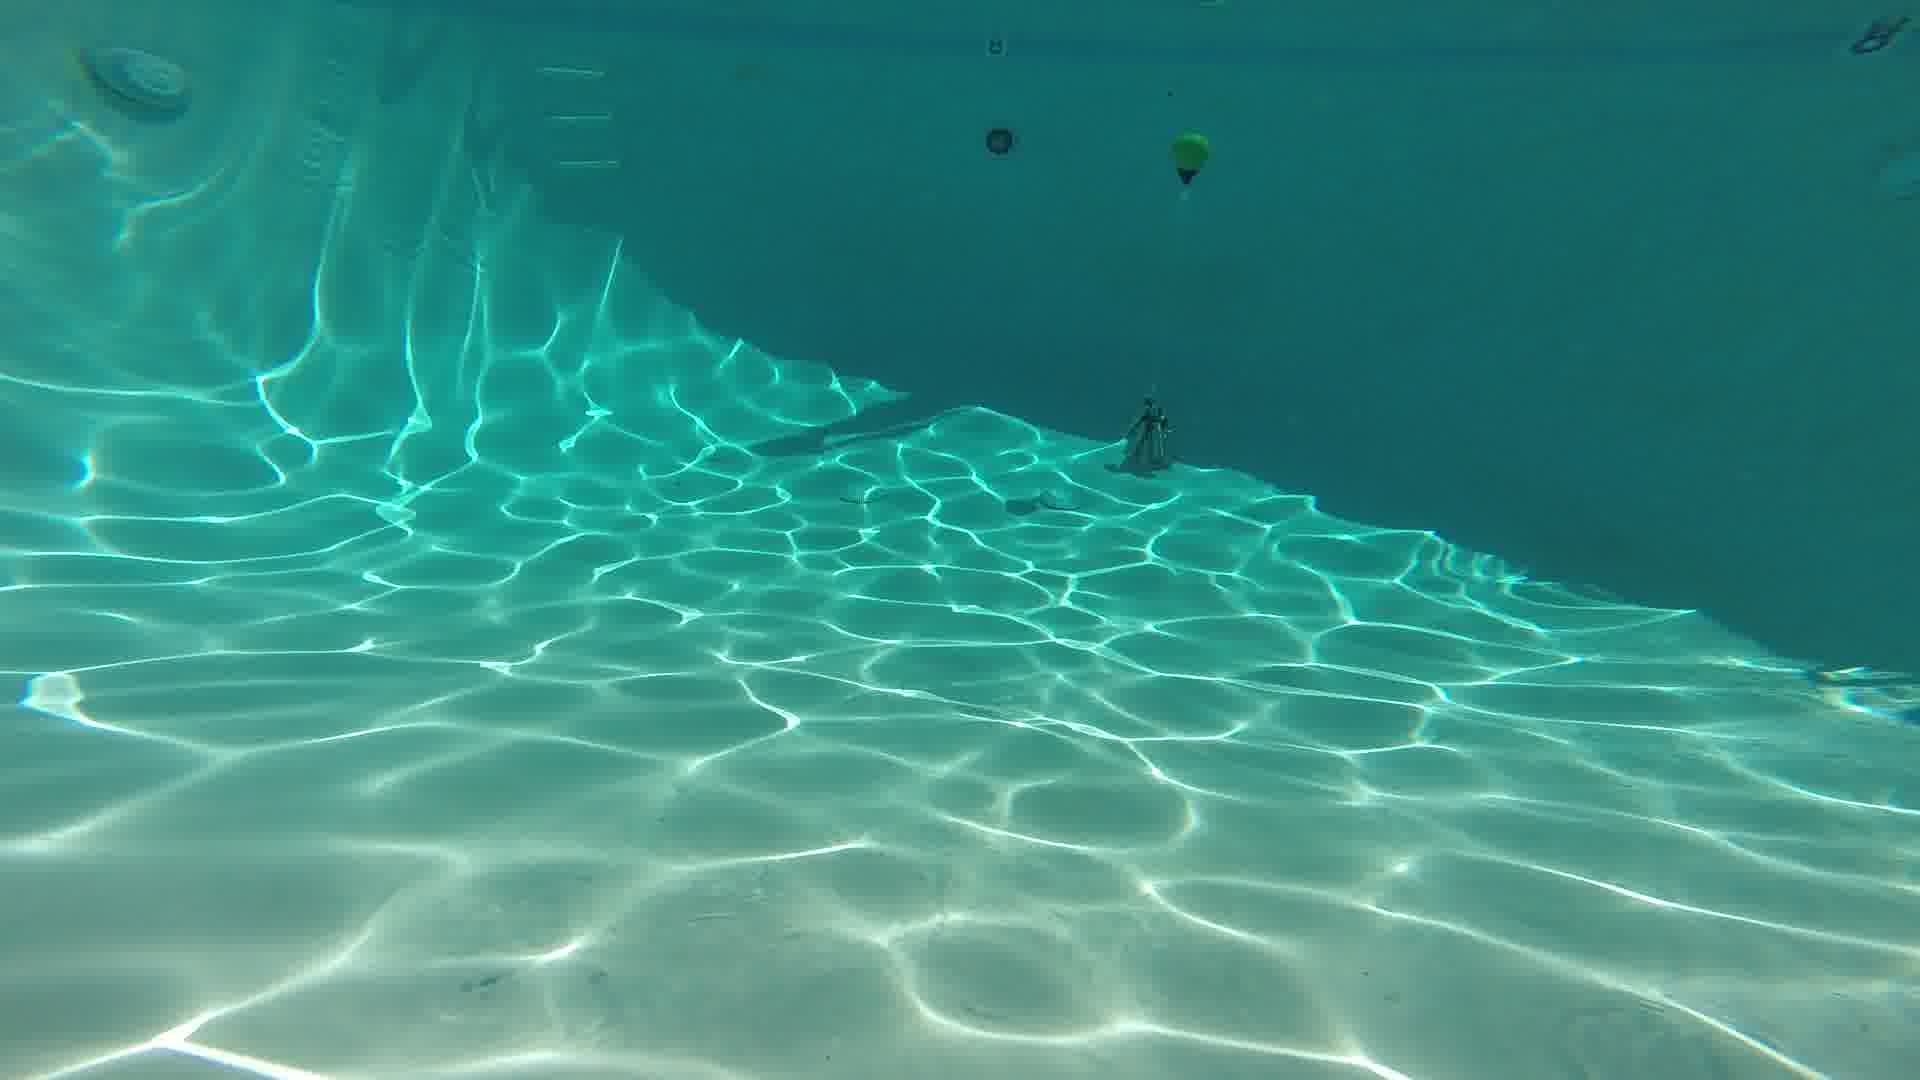yellow_buoy: (1170, 131, 1211, 186)
